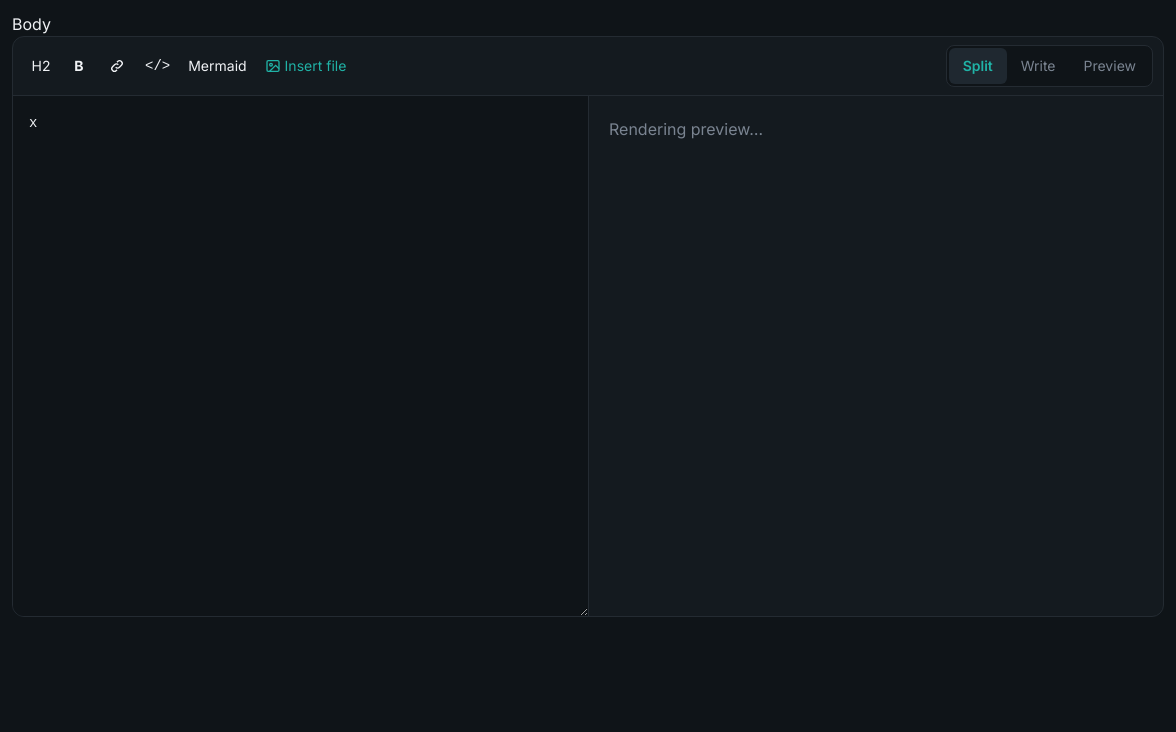
Test case: MarkdownEditor writing area › switches between Split, Write and Preview
The width and height of the screenshot is (1176, 732).
Check: the element with test id "markdown-preview" is shown, box left=609, top=119, right=763, bottom=139
Click the button "Write" at (1038, 66), box left=1007, top=48, right=1070, bottom=84
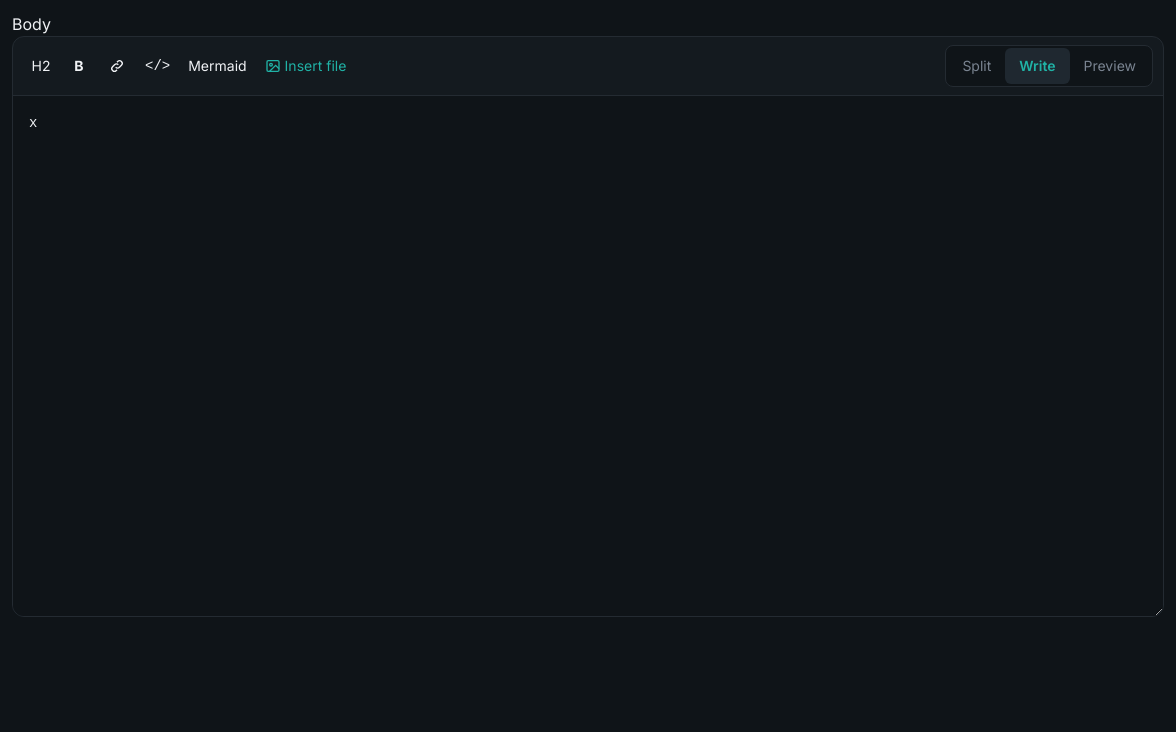
Check: the element with test id "markdown-preview" is gone
Click the button "Preview" at (1110, 66), box left=1070, top=48, right=1150, bottom=84
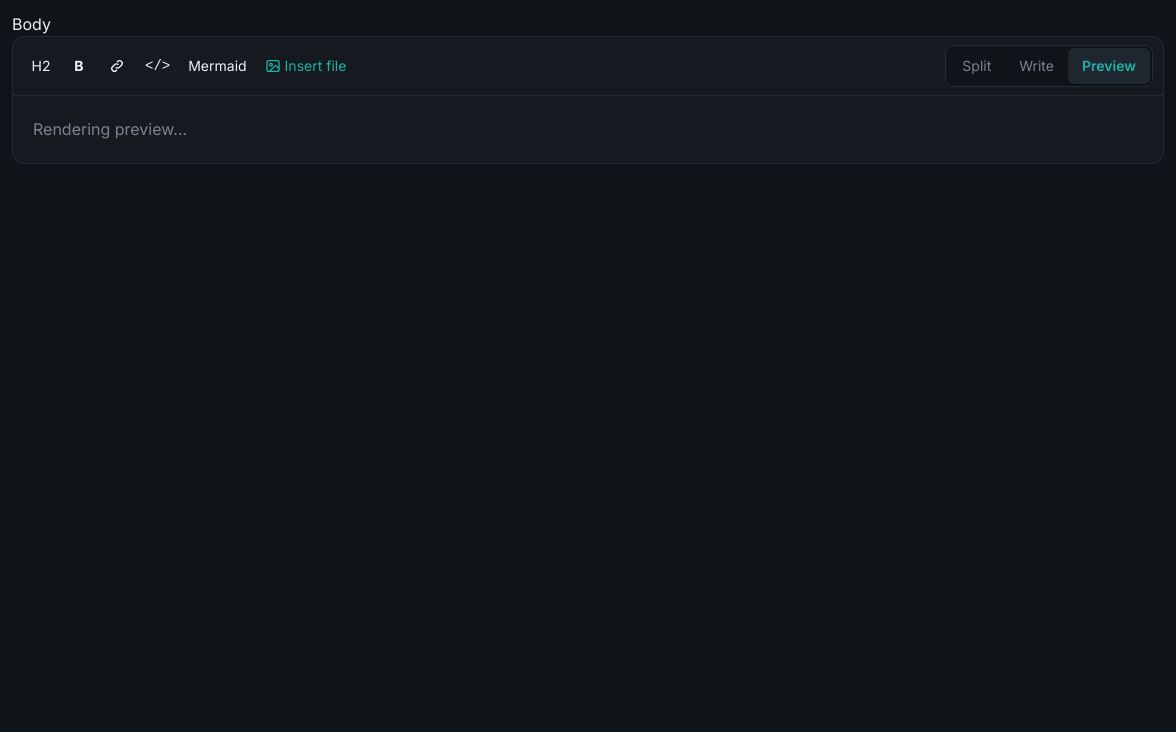
Check: the element with test id "markdown-preview" is shown, box left=33, top=119, right=187, bottom=139
